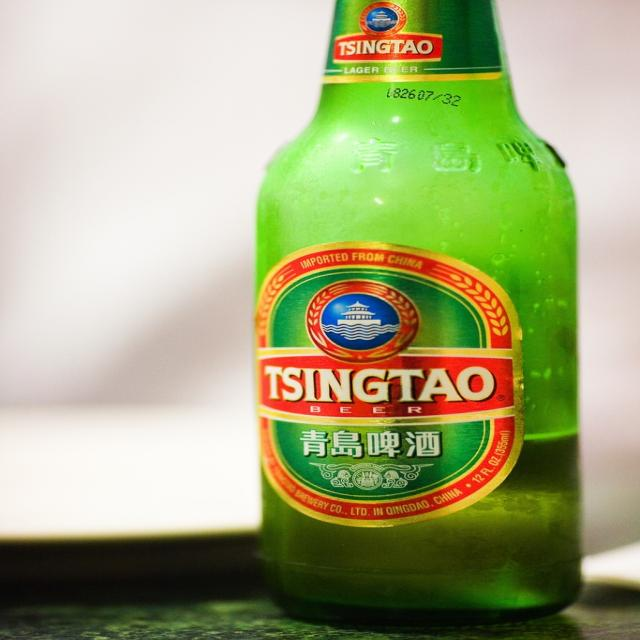tsingtao: (251, 242, 523, 530), (329, 2, 451, 67)
